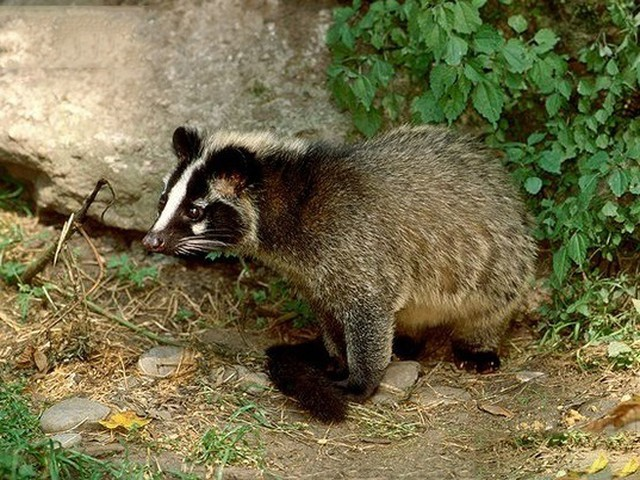civet: (141, 122, 542, 398)
